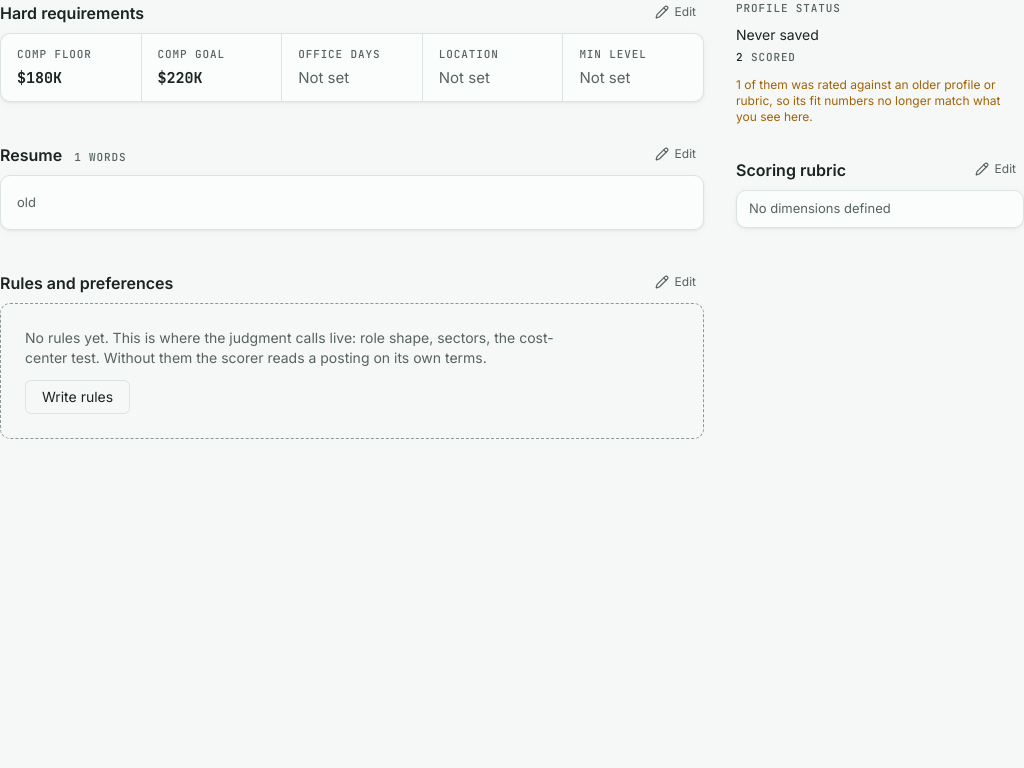
Test: ProfilePage hard requirements › blocks a save when the comp goal sits below the floor
Click the button with aria-label "edit hard requirements" at x=675, y=12, box [647,0,704,24]
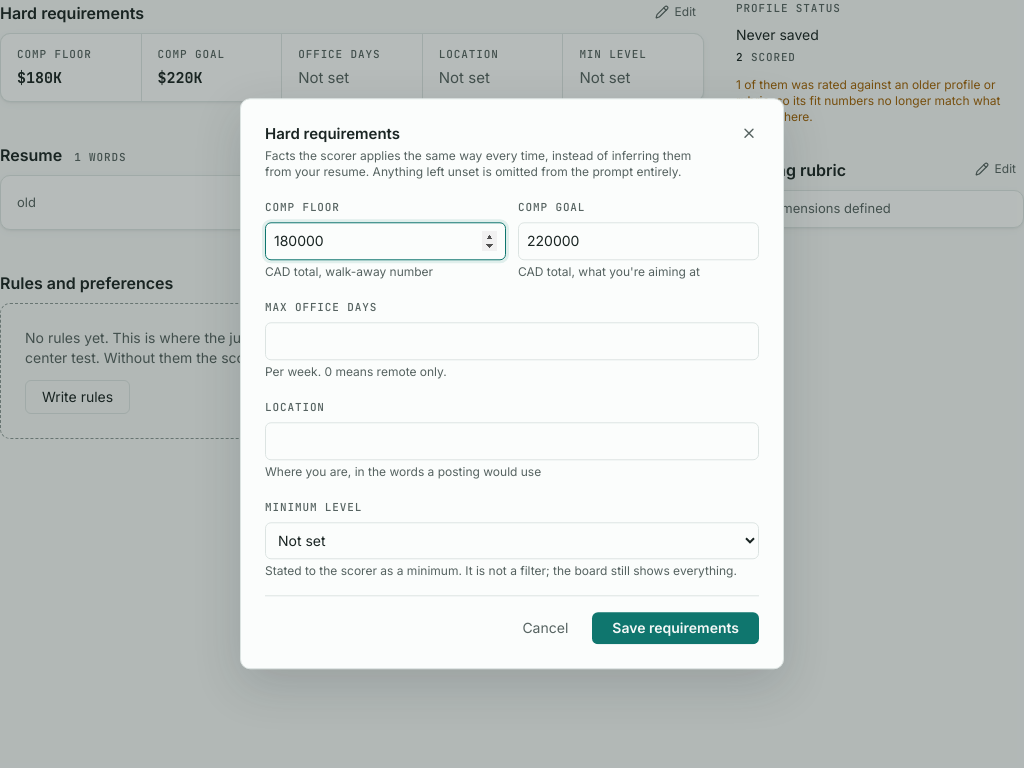
Replace the text in the number field named "Comp goal (CAD)" with "120000" at x=638, y=242, box [518,223,759,261]
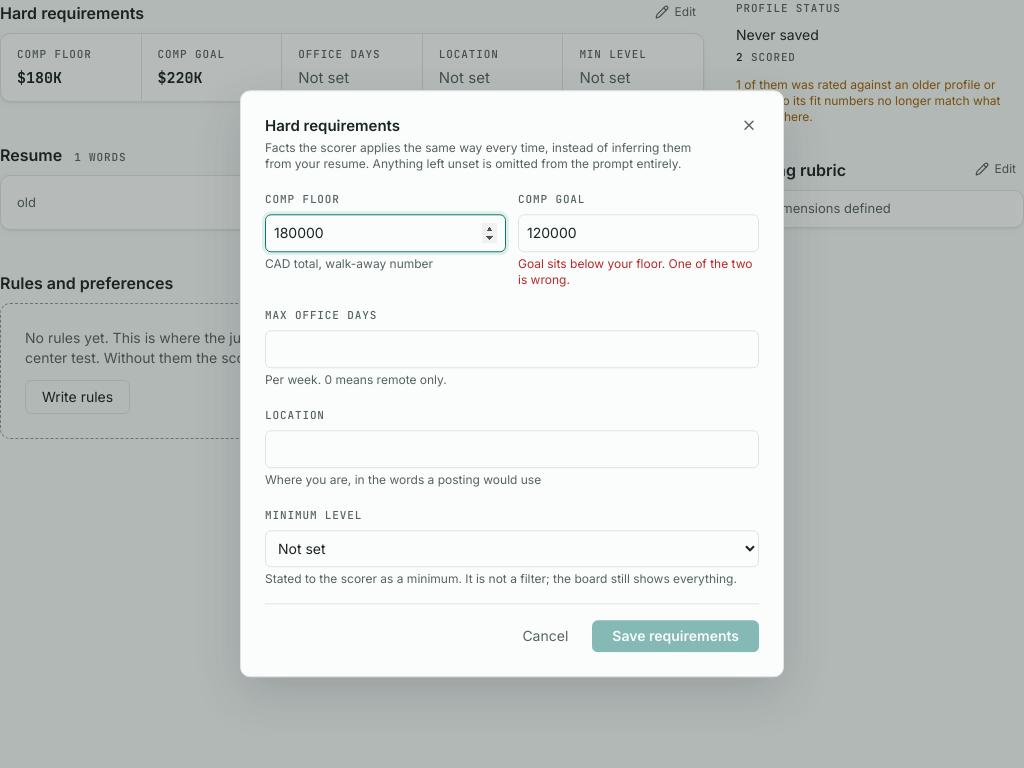
Result: the text "Goal sits below your floor. One of the two is wrong." is shown at [518,257,759,289]
Result: the button "Save requirements" is disabled at [592,621,759,653]
